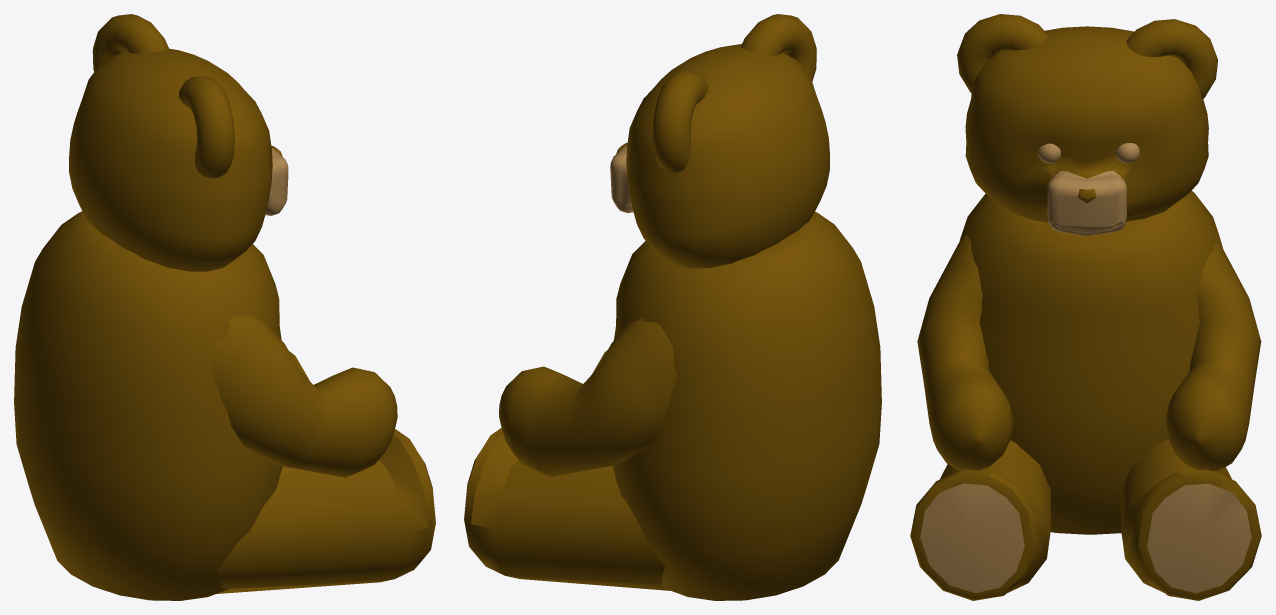
File: Osito.fbx
The picture shows the model from 3 angles, left to right: view 1: azimuth 30°, elevation 25°; view 2: azimuth 150°, elevation 25°; view 3: azimuth 270°, elevation 25°; orthographic projection. The views are drawn at different scales.
Visible parts, largest first — view 1: pCylinder6; view 2: pCylinder6; view 3: pCylinder6.
Part boxes in pixels (x1=…): pCylinder6: x1=14, y1=14, x2=435, y2=600; pCylinder6: x1=464, y1=14, x2=881, y2=600; pCylinder6: x1=910, y1=14, x2=1261, y2=600.
Bounding box in the file's own units: 23.87 × 38.92 × 24.2.
